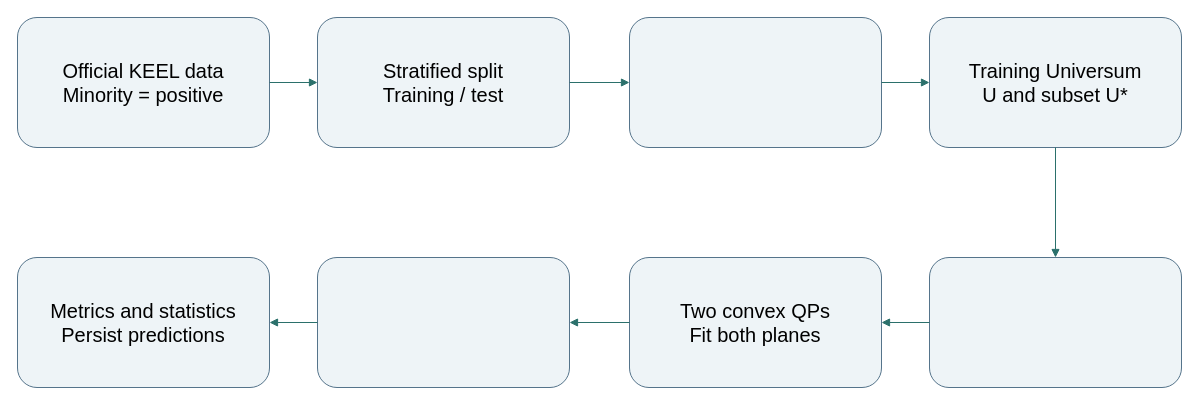
This 1199x405 diagram has some shape labels left out. Each missing label, with the centre of its shape:
Decision rule Nearest plane: point 443,322
IF scores Training geometry: point 1055,322
Train-only encoding and scaling: point 755,82
